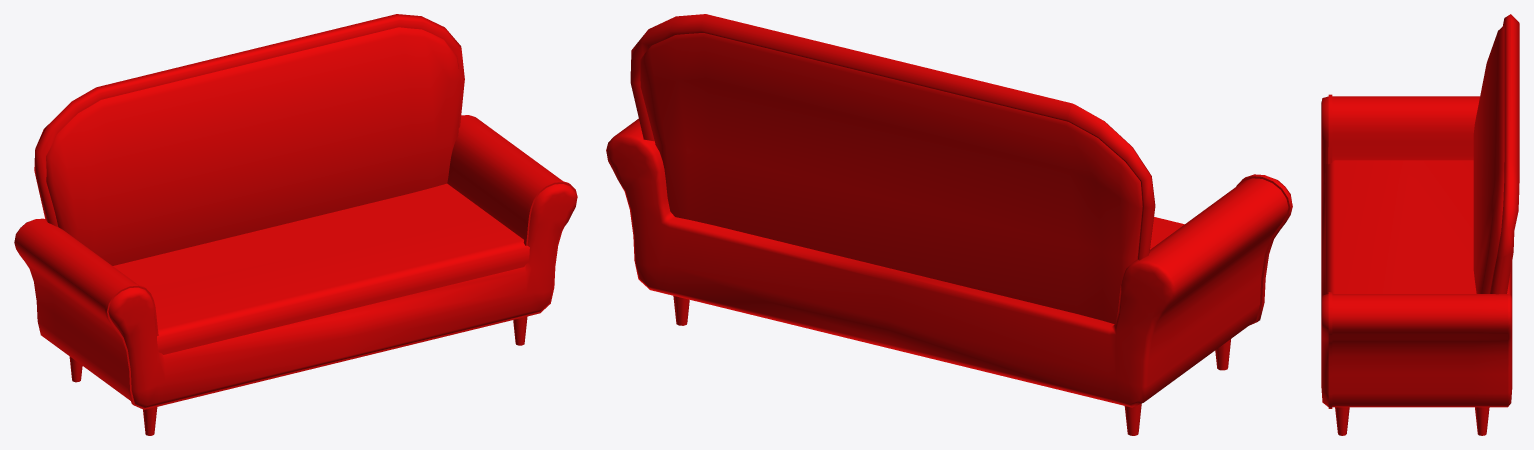
Rendered from SM_LongLounge.fbx.
3 renders of one model, left to right at view 1: azimuth 30°, elevation 25°; view 2: azimuth 150°, elevation 25°; view 3: azimuth 270°, elevation 25°, orthographic. The views are drawn at different scales.
Visible parts, largest first — view 1: GEO_LongLounge; view 2: GEO_LongLounge; view 3: GEO_LongLounge.
Part boxes in pixels (left/top/right/bottom): GEO_LongLounge: left=14, top=14, right=577, bottom=435; GEO_LongLounge: left=606, top=14, right=1292, bottom=435; GEO_LongLounge: left=1321, top=14, right=1519, bottom=435.
Size of the model in its own units: 237 by 132 by 90.75.
